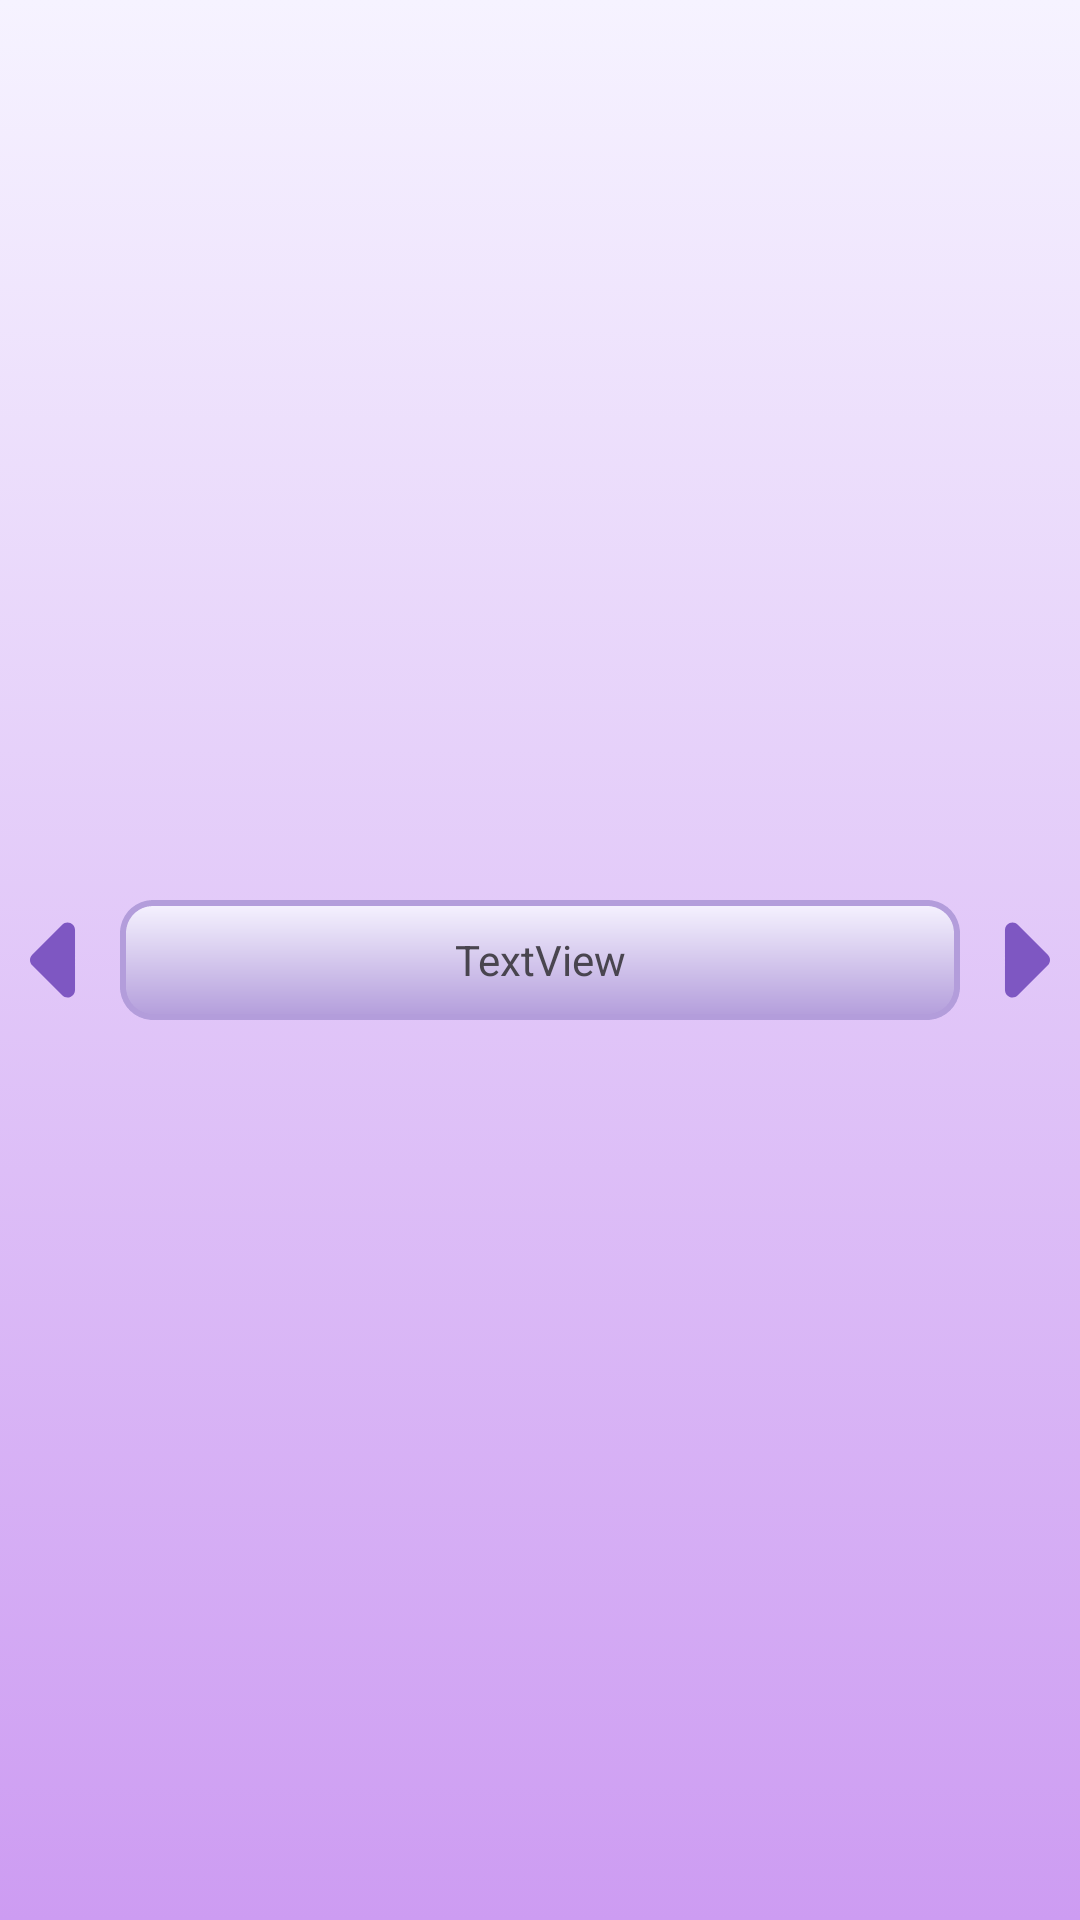

Icon bounding boxes for this 1080px x 1920px phone screenshot, format (x1, y1, x2, y2):
caret left: (30, 922, 75, 998)
caret right: (1005, 922, 1050, 998)
